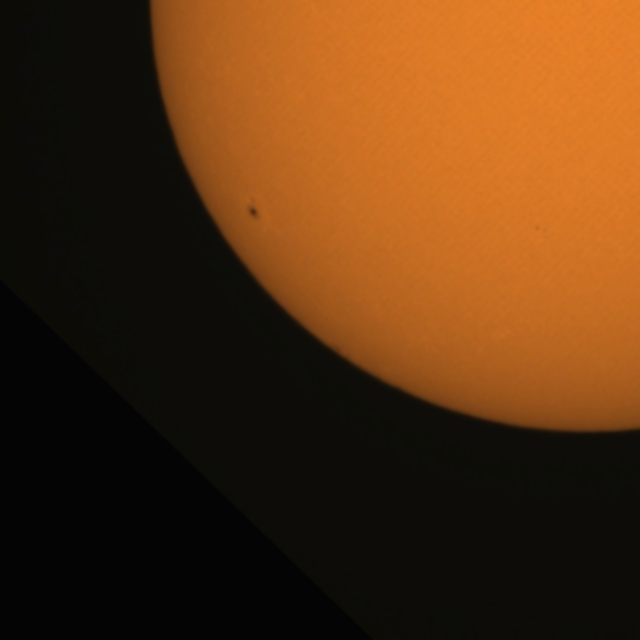sunspot: (245, 196, 262, 223), (533, 223, 548, 235)
